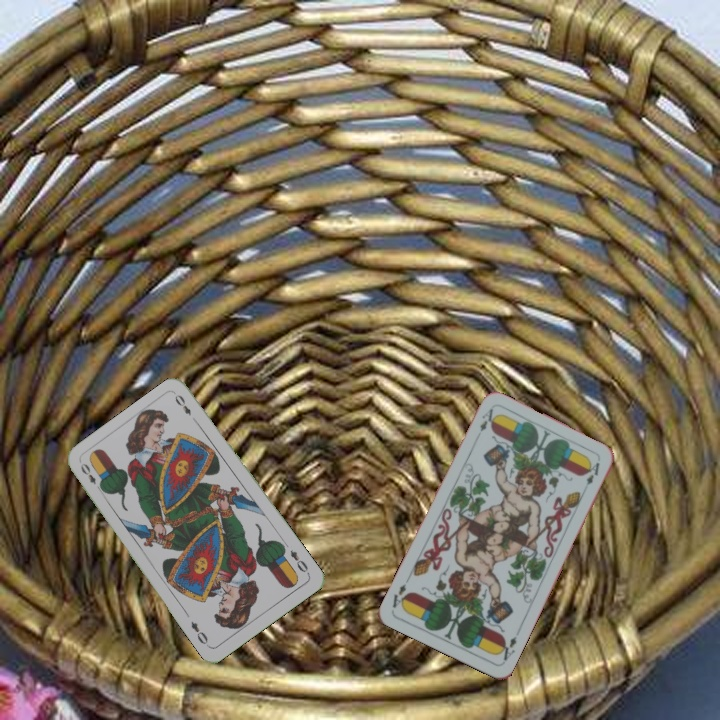EA: (494, 627, 522, 665), (476, 404, 498, 434)
EO: (76, 459, 105, 495), (286, 546, 312, 577)
